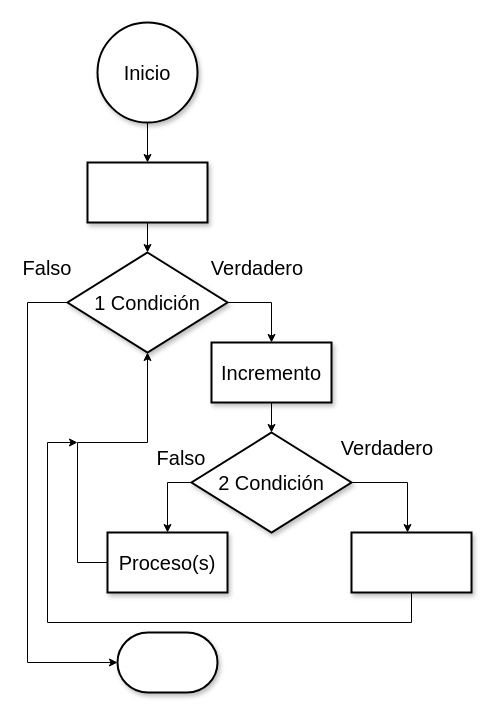
This 495x717 diagram has some shape labels left out. The shapes that lost their labels are listed below. From the top down, each one's centre as x and y in pixels, then its label:
(148,193): Asignación
(412,563): Continua
(168,663): FIN
